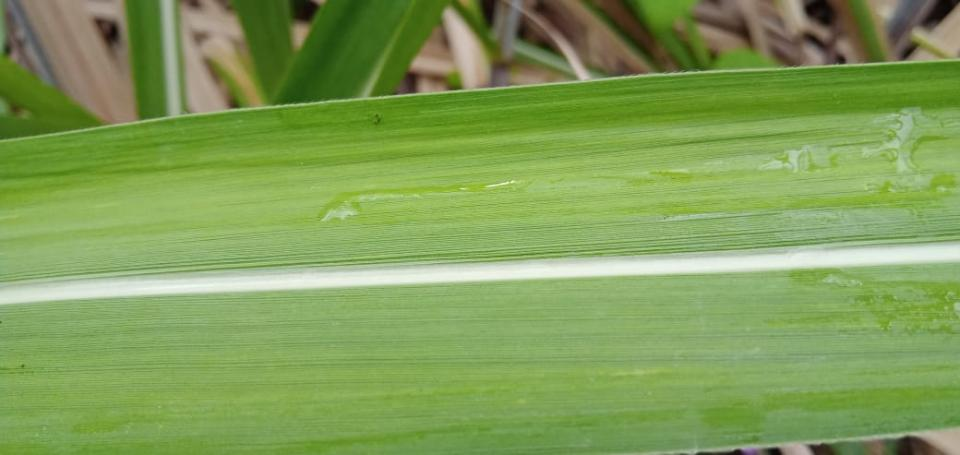Healthy: (0, 59, 959, 454)
